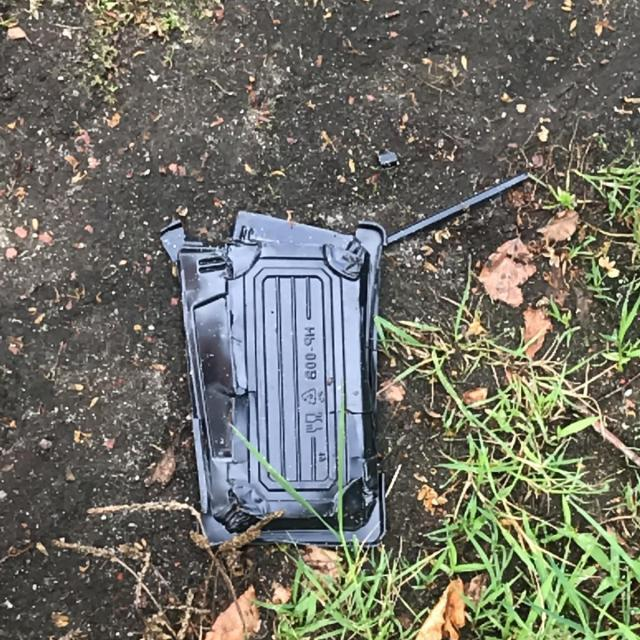Plastic: (154, 206, 387, 550)
